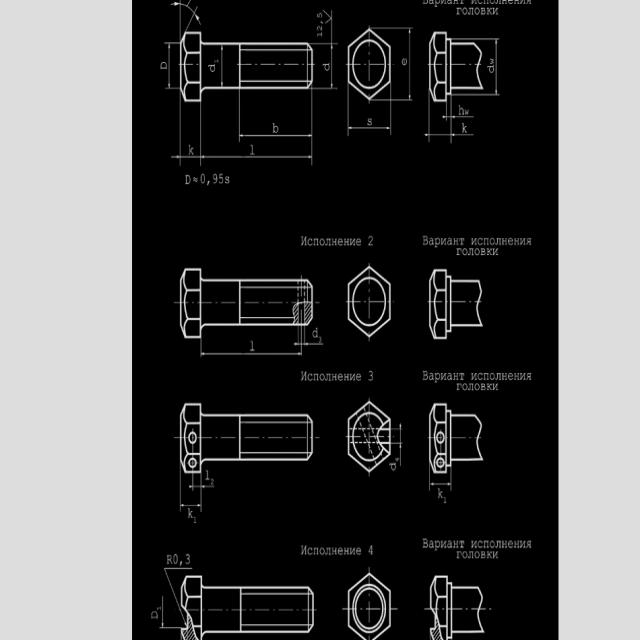marking_line: (168, 2, 206, 31), (201, 155, 312, 161), (201, 351, 302, 357), (240, 133, 312, 139), (493, 34, 499, 97), (348, 124, 390, 131), (408, 29, 412, 100), (292, 340, 324, 348), (425, 132, 474, 137), (167, 44, 172, 89), (398, 422, 403, 466), (429, 480, 453, 489), (451, 115, 475, 121), (324, 10, 332, 27), (331, 45, 334, 89), (181, 503, 201, 509), (441, 115, 451, 122), (170, 156, 181, 161)
numeric: (199, 172, 225, 187), (314, 10, 324, 38), (183, 552, 196, 570), (172, 550, 180, 566), (248, 340, 257, 352), (205, 468, 210, 482)
special_symbol: (193, 174, 199, 184)
